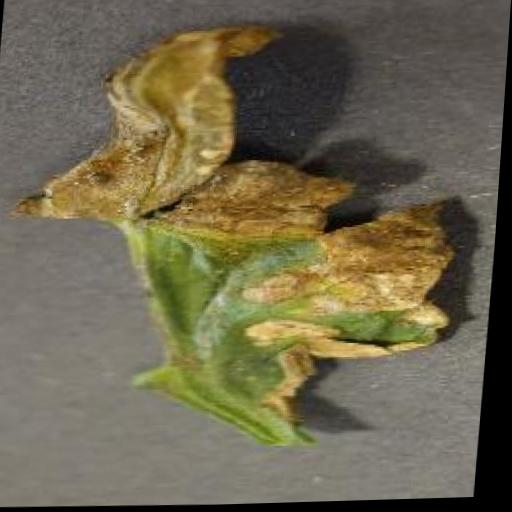Bacterial Spot: (0, 10, 486, 441)
